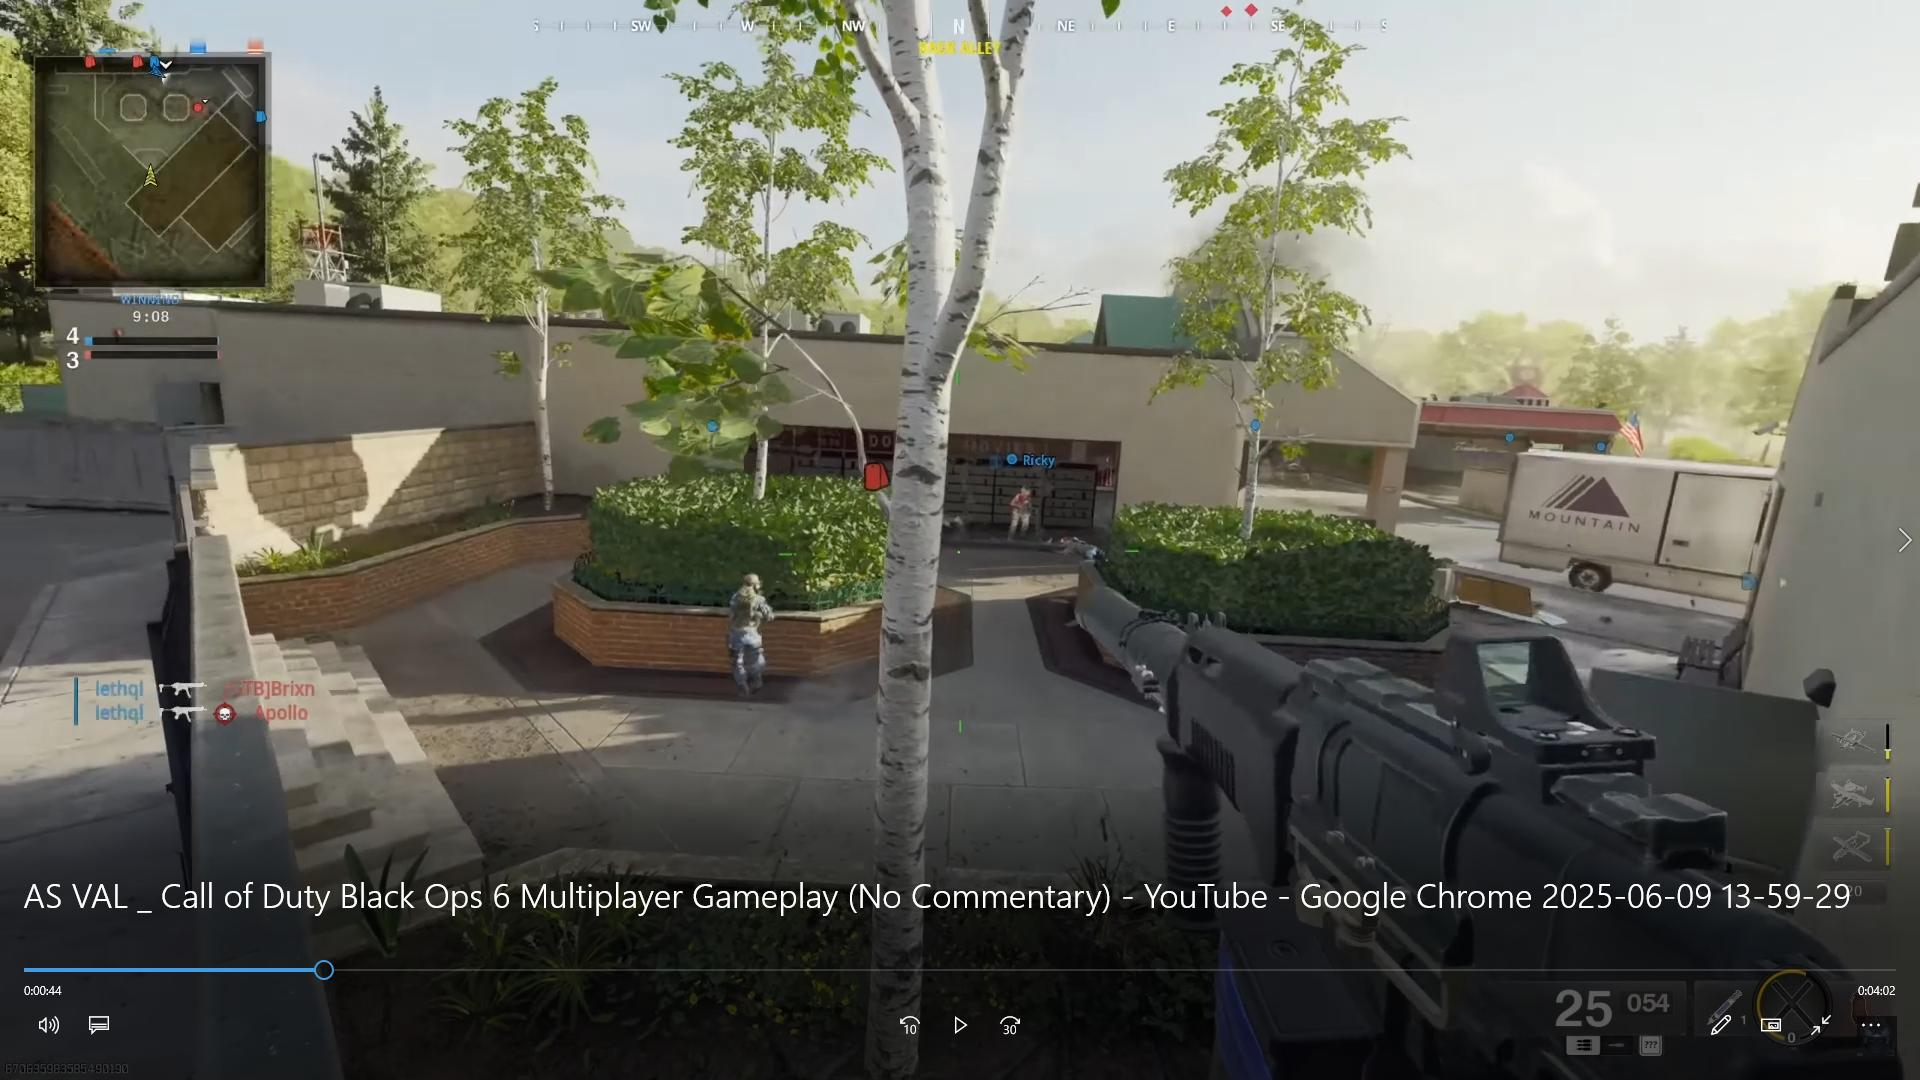Enemy: (723, 563, 771, 691), (1007, 480, 1034, 546)
